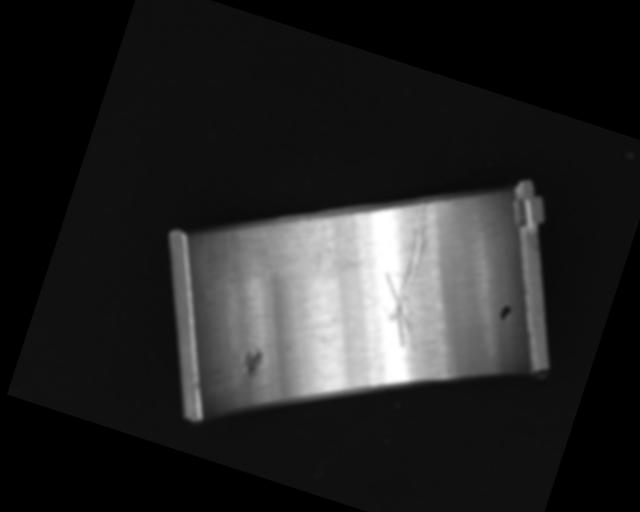blot: (496, 302, 514, 324)
bruise: (238, 345, 266, 380)
nick: (363, 195, 459, 350)
scratch: (215, 189, 351, 298)
